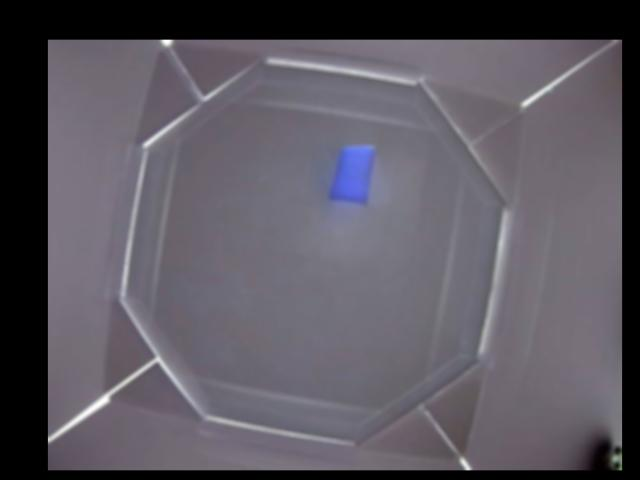Potato: (331, 144, 376, 204)
